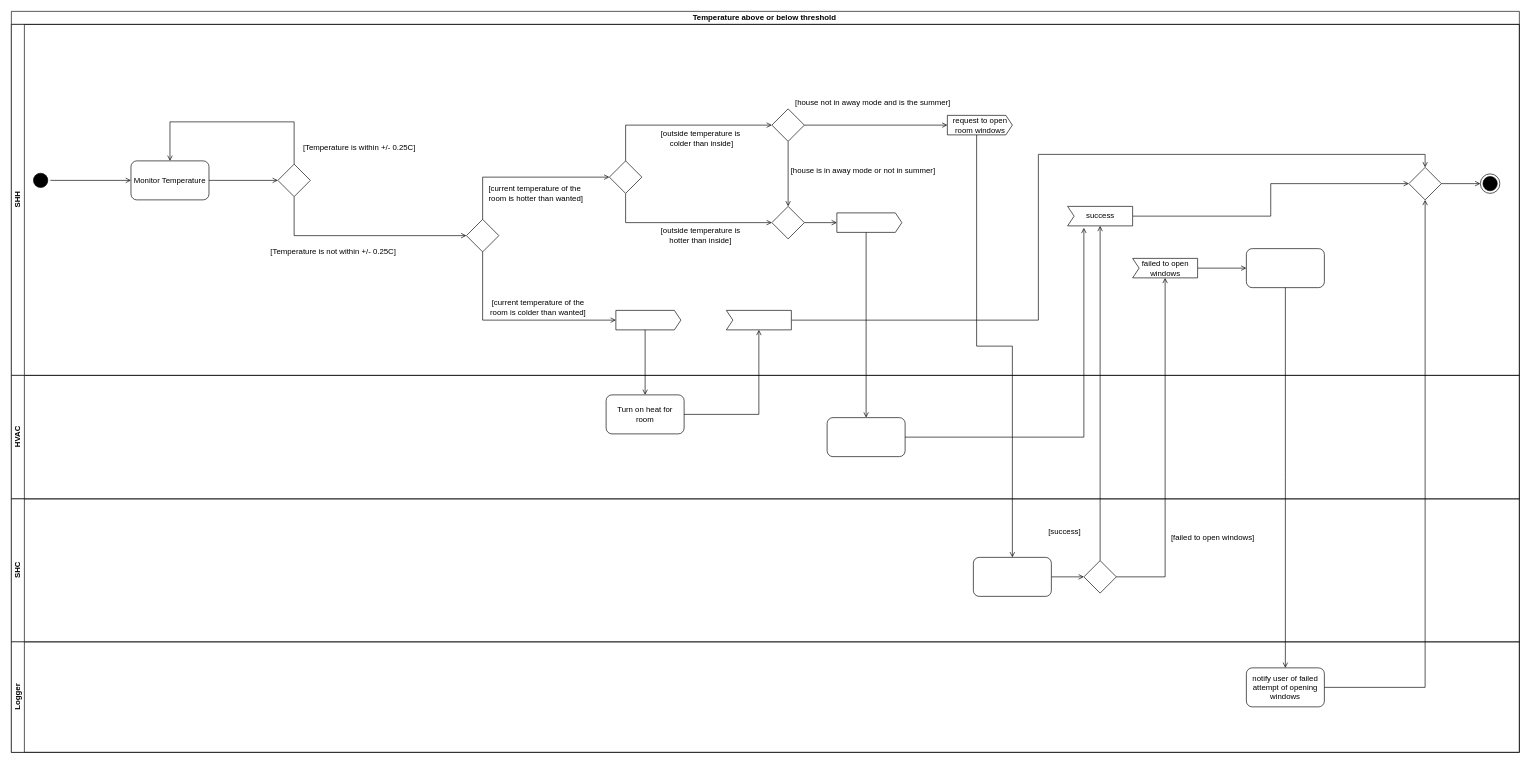
The diagram is 1531 pixels wide and 764 high, and some of its shapes have lost their labels. Here are the shapes that lost their labels. From the top down, the centre of each, then its label:
the point at 869,222: request to cool room
the point at 1285,268: sends message to log
the point at 648,320: request to heat room
the point at 758,320: heating on
the point at 865,437: Turn on airconditioning
the point at 1012,576: attempt to open all windows for room
